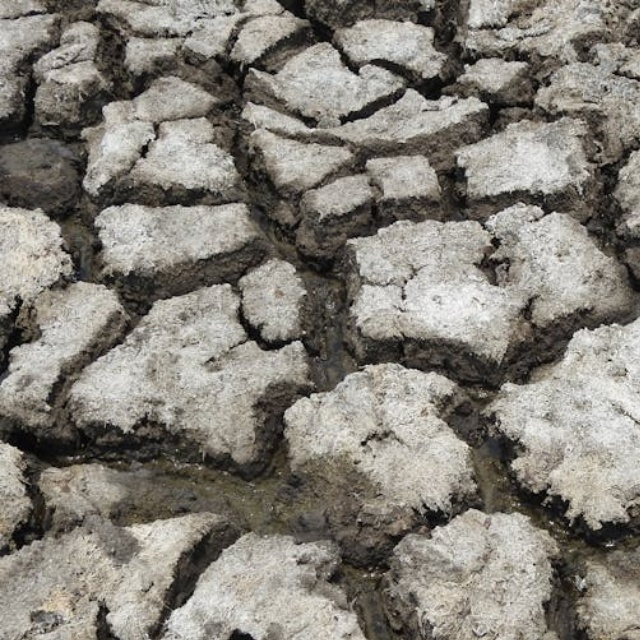深大裂缝: (145, 32, 486, 509), (0, 449, 640, 640)
